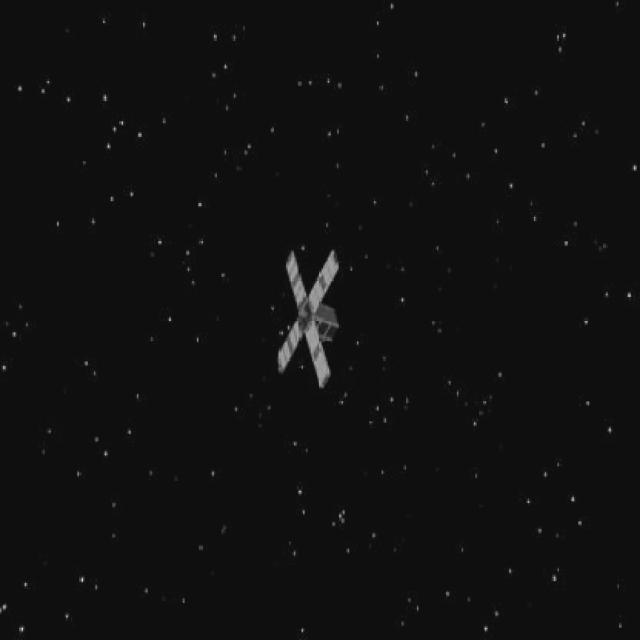medium_debris: (263, 248, 354, 385)
